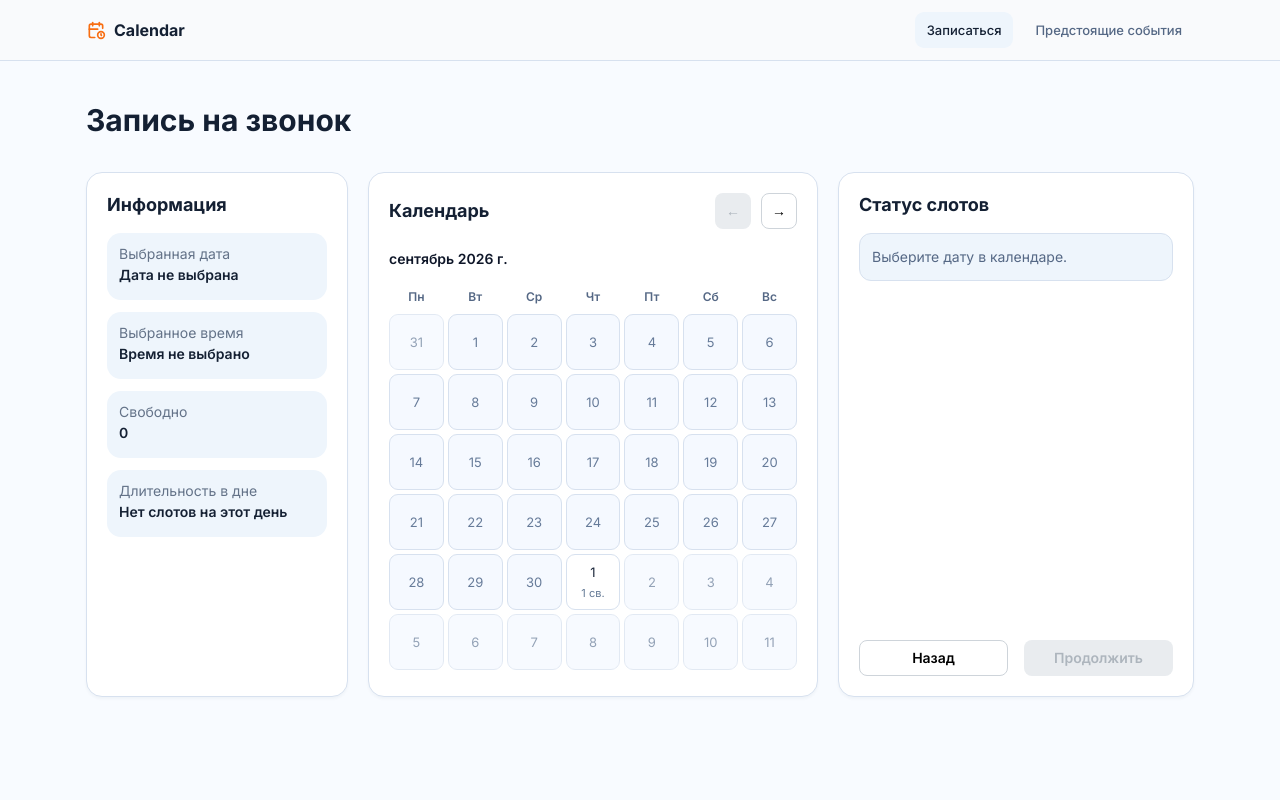
Test: calendar pages › moves between months within the booking window
Click the button named "Следующий месяц". click: (779, 211)
box: [761, 193, 797, 229]
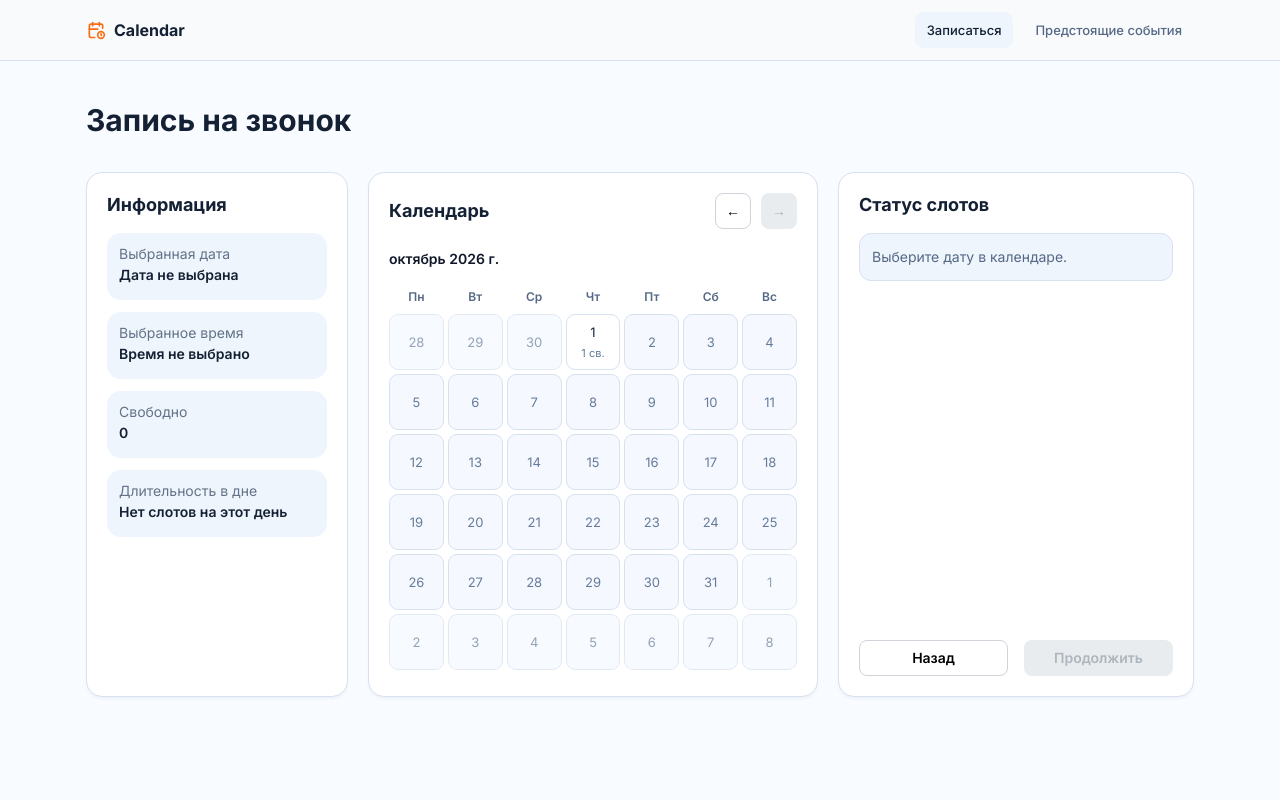
Result: the text "октябрь 2026 г." is shown at [389, 250, 499, 267]
Click the button with aria-label "1 октября —". click: (593, 342)
box: [566, 314, 620, 370]
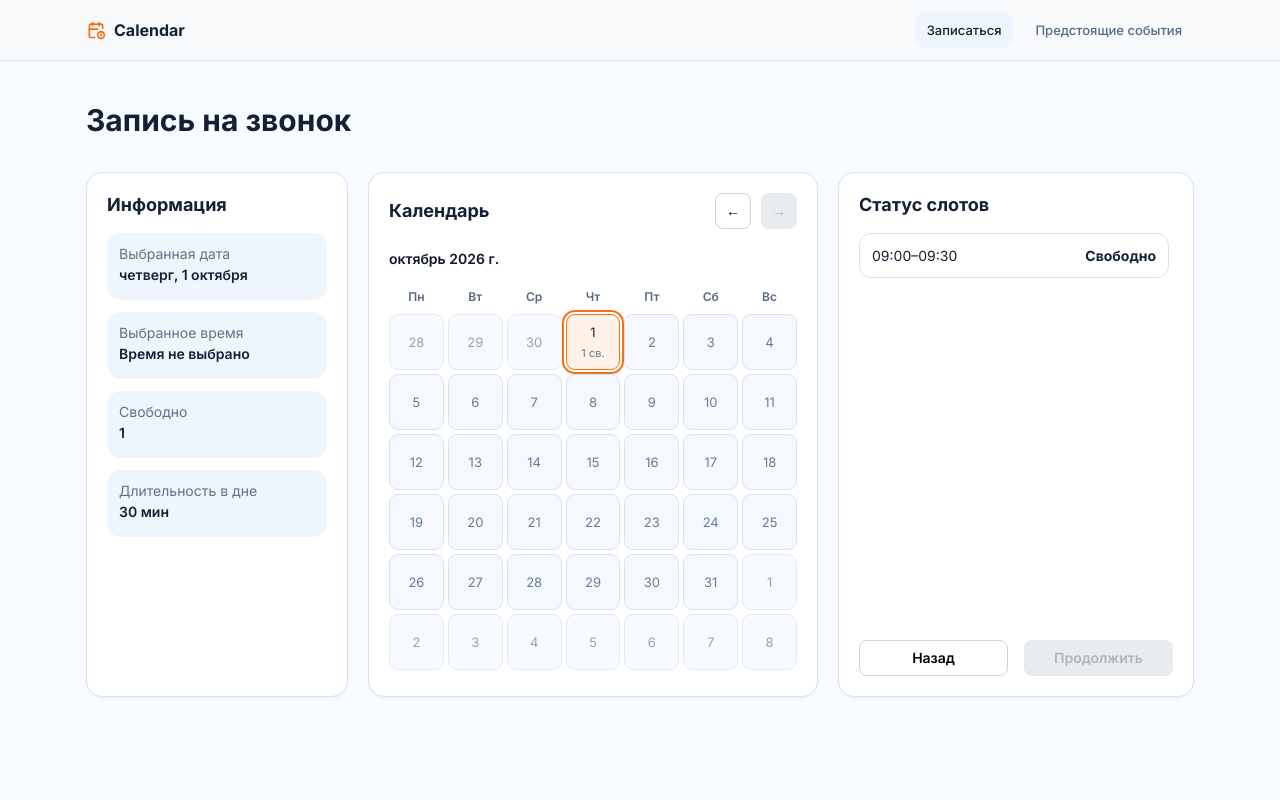
Result: the button "09:00–09:30 Свободно" is shown at [859, 233, 1169, 278]
